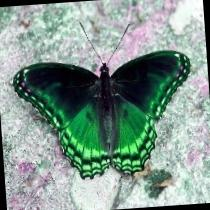butterfly: (12, 51, 190, 179)
